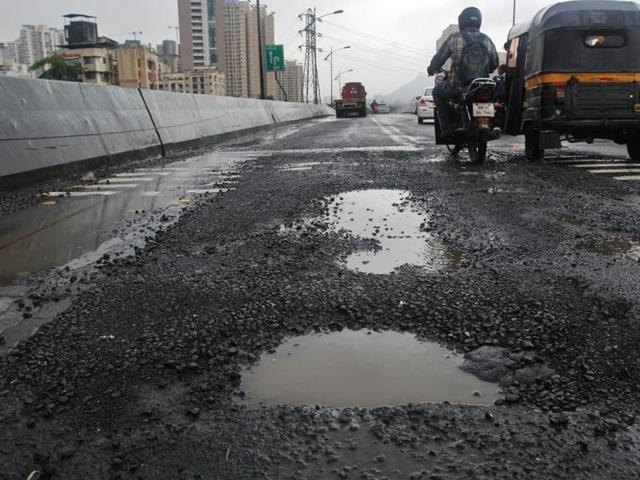pothole: (203, 285, 526, 454), (292, 158, 470, 296)
